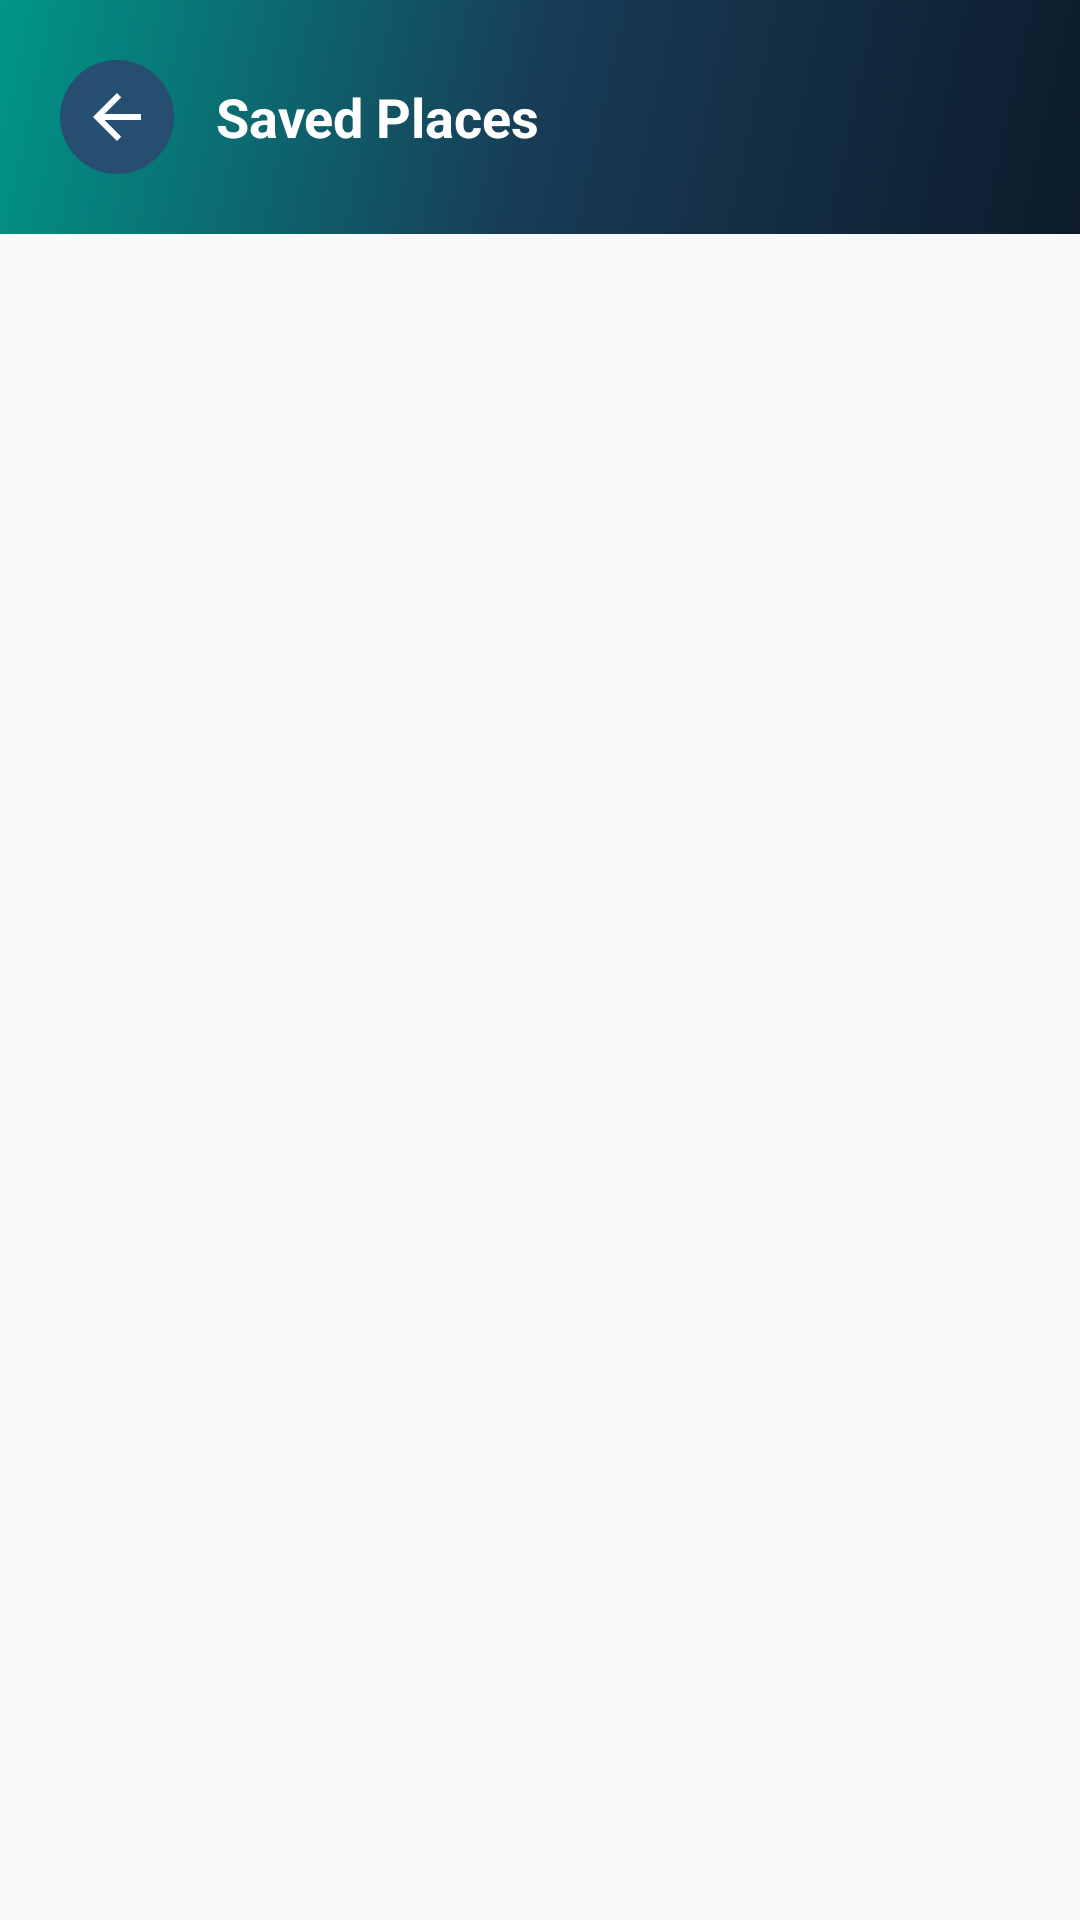

Where to tap for icons on this 1080px x 1920px app screen, as point (x, y):
Back: point (117, 117)
